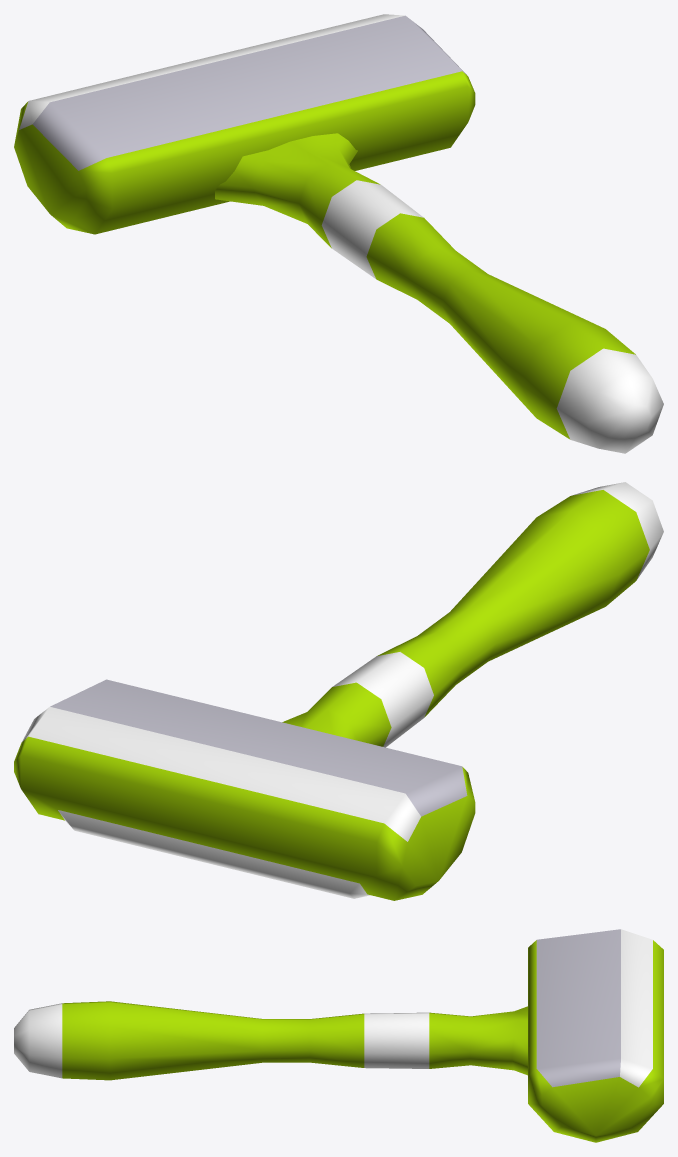
The model's file is Shaver_M.fbx.
3 renders of one model, top to bottom at view 1: azimuth 30°, elevation 25°; view 2: azimuth 150°, elevation 25°; view 3: azimuth 270°, elevation 25°, orthographic. The views are drawn at different scales.
Visible parts, largest first — view 1: Shaver_M; view 2: Shaver_M; view 3: Shaver_M.
Boxes of the visible parts, x1,y1,x2,y2 form: Shaver_M: (14, 14, 663, 453); Shaver_M: (14, 482, 663, 900); Shaver_M: (14, 929, 663, 1142).
Size of the model in its own units: 100 by 29.68 by 195.
Materials: 1 (1 with a texture image).
